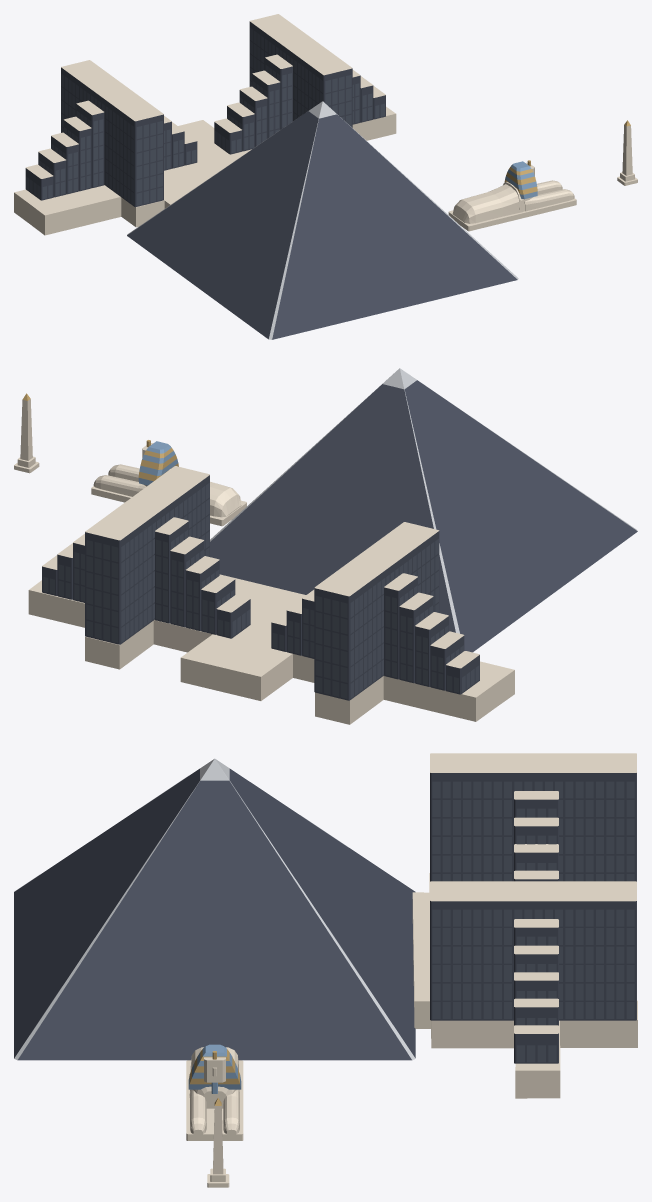
Rendered from detail.glb.
The picture shows the model from 3 angles, top to bottom: view 1: azimuth 30°, elevation 25°; view 2: azimuth 150°, elevation 25°; view 3: azimuth 270°, elevation 25°; orthographic projection. The views are drawn at different scales.
Visible parts, largest first — view 1: luxor-las-vegas; view 2: luxor-las-vegas; view 3: luxor-las-vegas.
Part boxes in pixels (bbox=[...]): luxor-las-vegas: bbox=[14, 14, 637, 339]; luxor-las-vegas: bbox=[14, 368, 637, 724]; luxor-las-vegas: bbox=[14, 753, 637, 1187].
Bounding box in the file's own units: 365 × 109 × 284.
